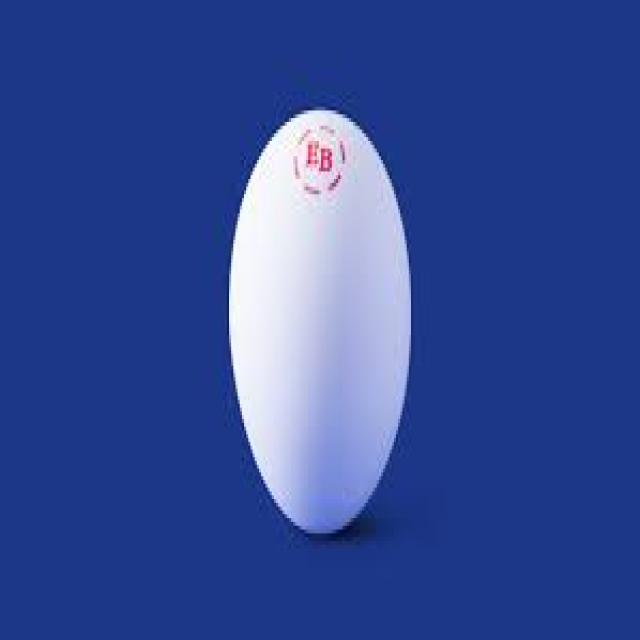White Egg: (225, 96, 419, 547)
